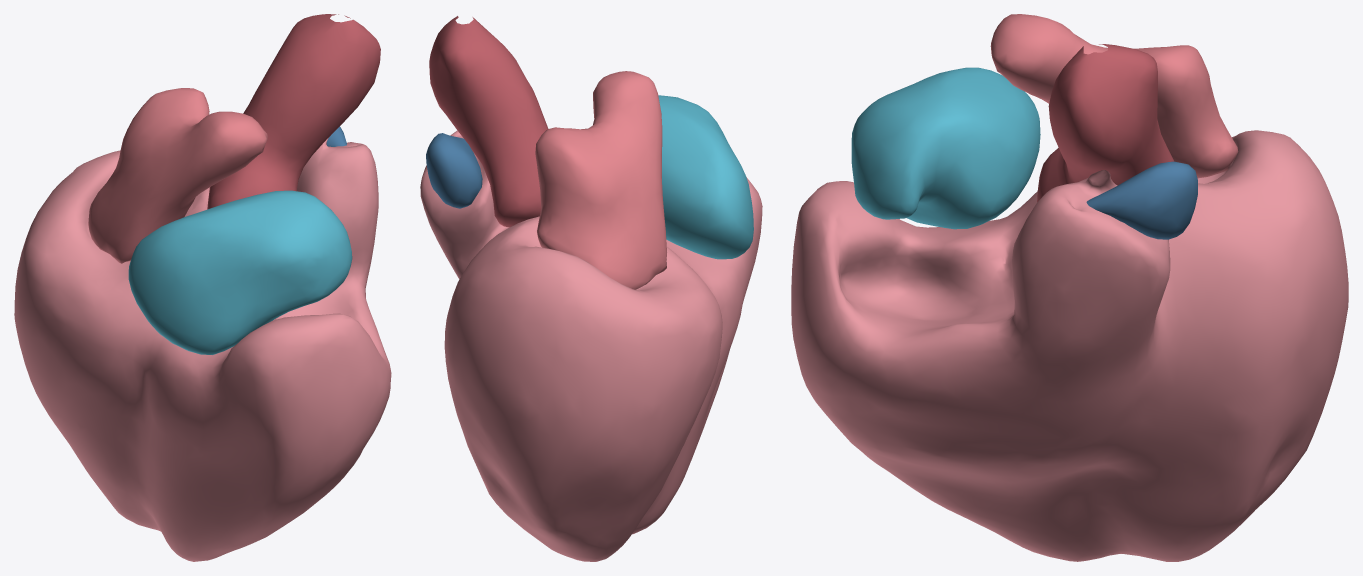
Rendered from frame_64.glb.
3 views of the same model, side by side, from view 1: azimuth 30°, elevation 25°; view 2: azimuth 150°, elevation 25°; view 3: azimuth 270°, elevation 25° (orthographic). The views are drawn at different scales.
Parts seen in each view (by area): view 1: Renderer Node; view 2: Renderer Node; view 3: Renderer Node.
Part boxes in pixels (x1=…): Renderer Node: x1=14, y1=14, x2=391, y2=561; Renderer Node: x1=420, y1=16, x2=762, y2=561; Renderer Node: x1=791, y1=14, x2=1348, y2=561.
Bounding box in the file's own units: 107 × 164 × 137.
